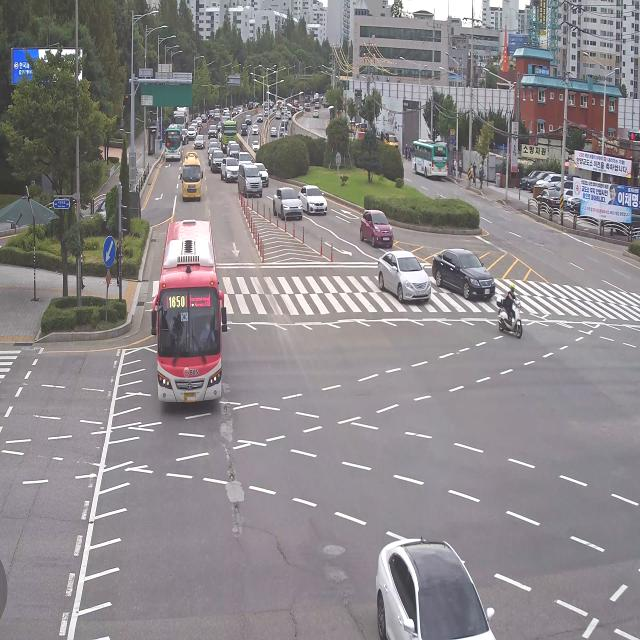Bus: (147, 204, 234, 423), (408, 132, 450, 185), (176, 148, 207, 215), (160, 116, 182, 161)
Car: (354, 500, 512, 640), (426, 229, 495, 314), (370, 242, 434, 321), (262, 174, 311, 233), (353, 200, 399, 251), (303, 172, 332, 226), (237, 160, 264, 200), (536, 186, 564, 214), (220, 153, 241, 183), (528, 167, 553, 192), (518, 166, 542, 190), (538, 172, 564, 193), (212, 146, 223, 177), (554, 177, 579, 190), (568, 194, 582, 216), (384, 131, 398, 151), (560, 186, 573, 206), (238, 151, 254, 167), (225, 136, 236, 156), (209, 147, 219, 168), (230, 142, 241, 159), (564, 172, 582, 182), (194, 134, 206, 149), (180, 125, 189, 144), (346, 117, 356, 133), (208, 122, 218, 138), (252, 138, 262, 154), (251, 121, 260, 138), (359, 121, 368, 135), (244, 111, 253, 125), (188, 126, 195, 141), (269, 124, 277, 137), (566, 193, 573, 207), (256, 110, 263, 124), (354, 121, 361, 133), (281, 118, 287, 131), (195, 115, 202, 126), (200, 112, 207, 123), (274, 110, 281, 121), (218, 120, 225, 130), (279, 127, 286, 137), (222, 105, 228, 116), (264, 107, 270, 118), (314, 101, 322, 109), (224, 112, 231, 121), (313, 109, 320, 118), (208, 110, 214, 120), (232, 107, 238, 117), (286, 110, 292, 120), (191, 120, 197, 128), (281, 105, 287, 113), (290, 108, 296, 116), (237, 105, 242, 114), (299, 104, 304, 113), (222, 115, 228, 122), (252, 101, 259, 107), (272, 104, 277, 112), (295, 102, 300, 108), (240, 104, 244, 111)
Motorcycle: (492, 280, 531, 350)
Truck: (219, 119, 239, 152), (172, 105, 189, 133), (353, 132, 366, 144), (240, 120, 248, 137), (304, 101, 312, 113), (214, 108, 221, 120), (248, 100, 254, 111), (304, 94, 311, 103), (283, 113, 289, 123)
